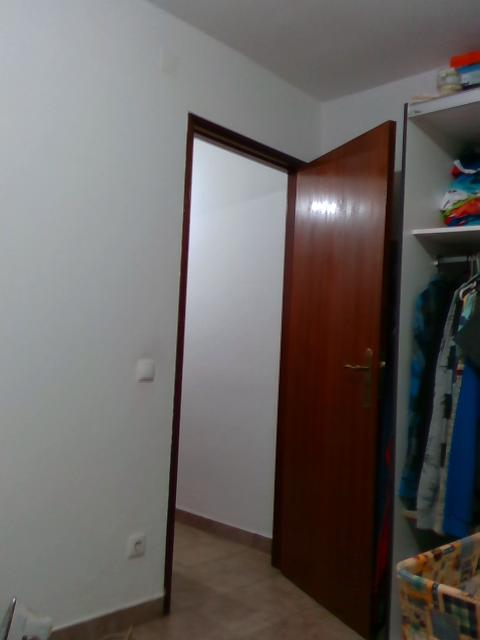open_door: (163, 108, 328, 617)
